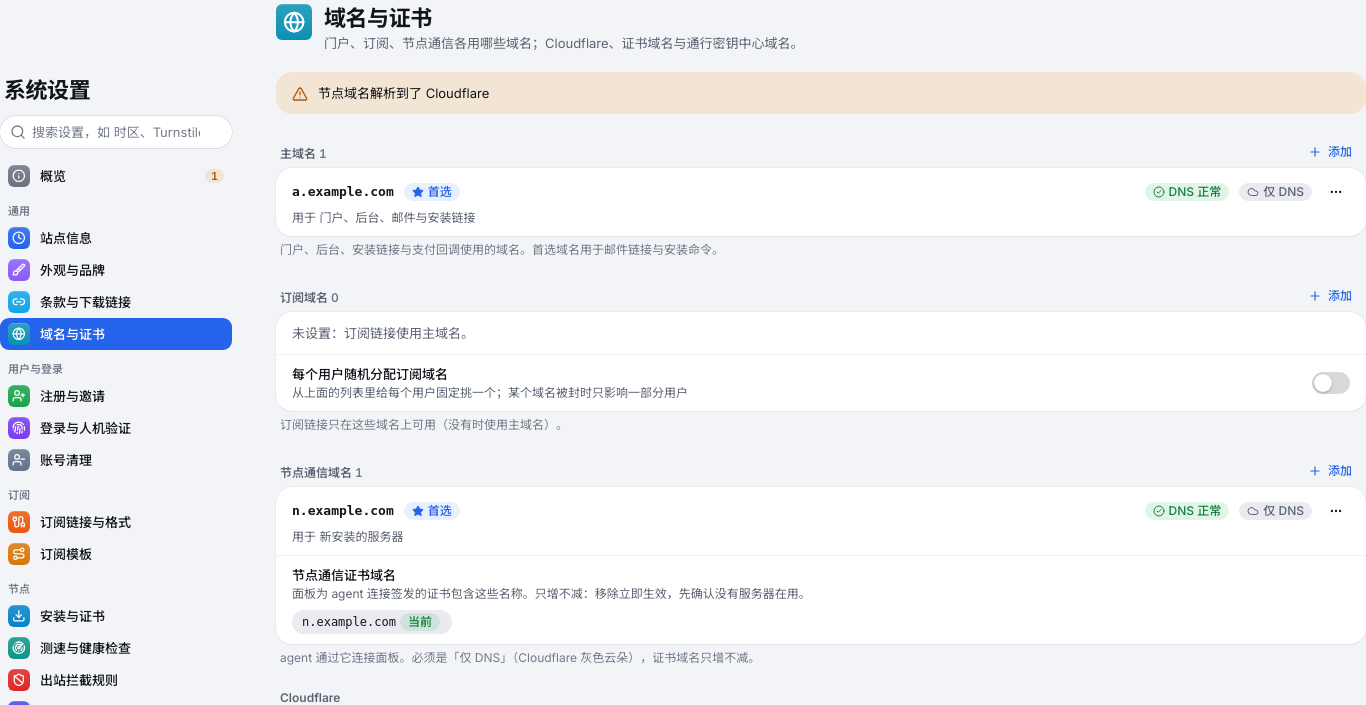
Test: domains add + save
Later steps or results of the test are not shown.
Click the button with aria-label "添加订阅域名".
click(1330, 296)  # box [1298,282,1362,310]
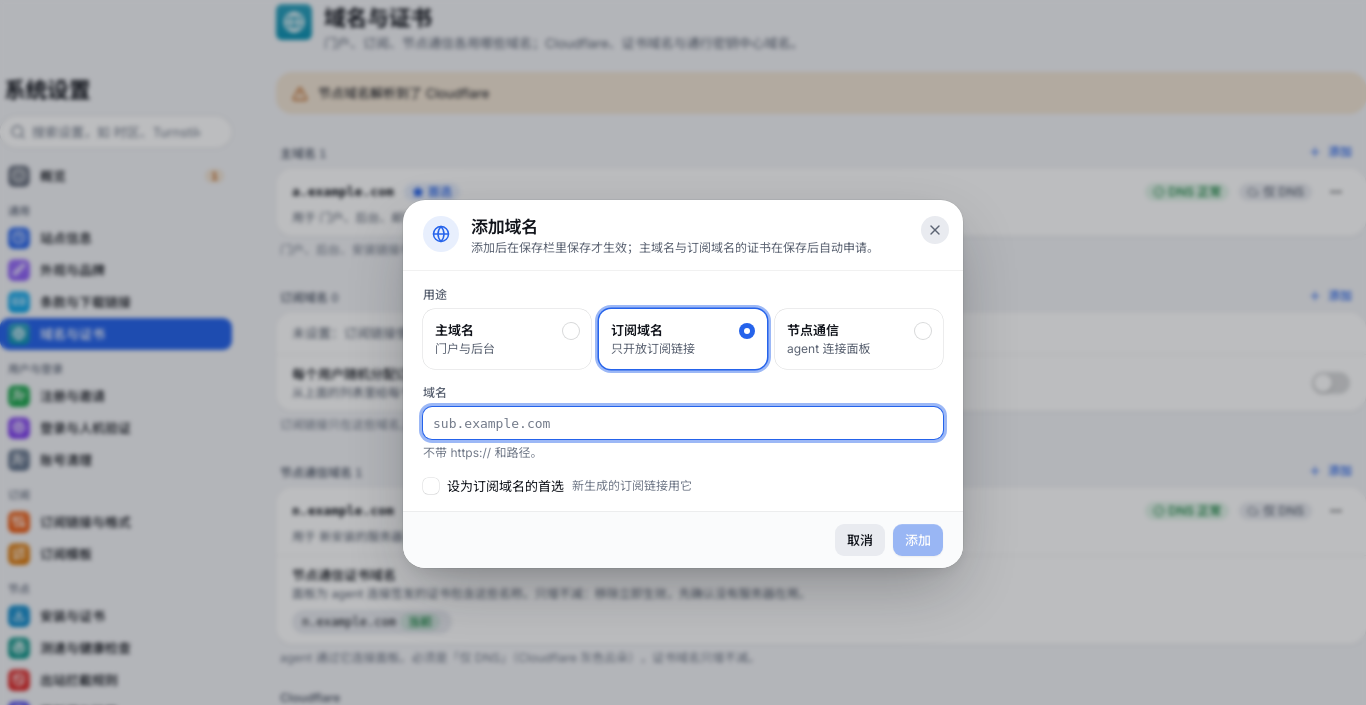
Type "s.example.org" into the field labelled "域名 不带 https:// 和路径。".
click(683, 423); type("s.example.org")  # box [423,407,943,439]
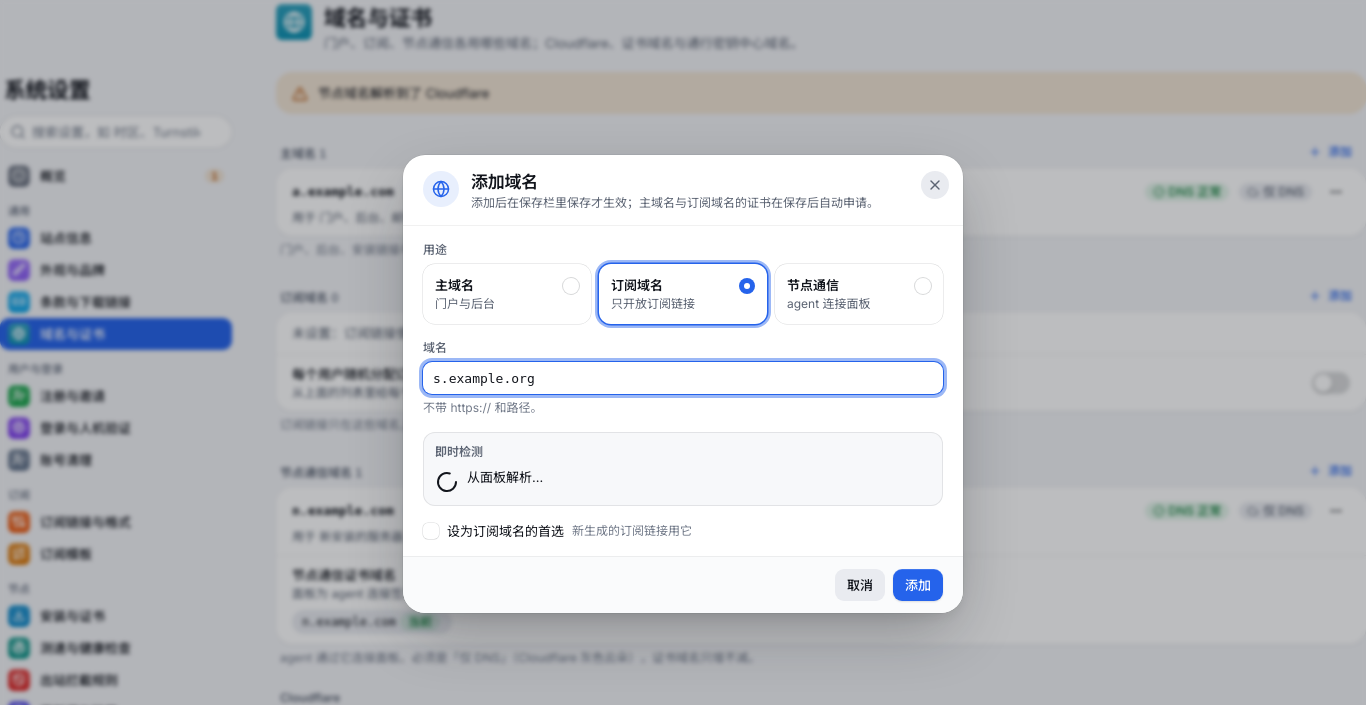
Click the button "添加".
click(918, 585)  # box [893,569,943,601]
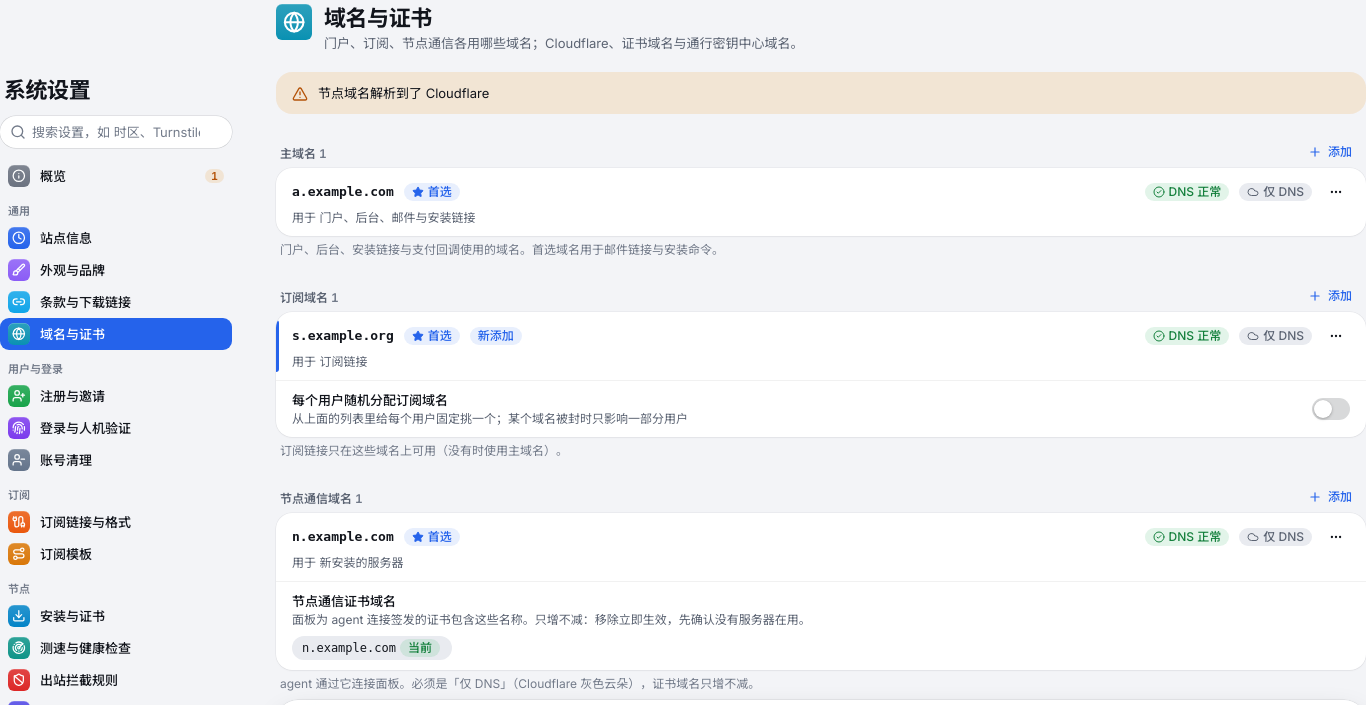
Check: the text "s.example.org" is shown, box [292,327,394,345]
Check: the text "新添加" is shown, box [470,327,522,345]
